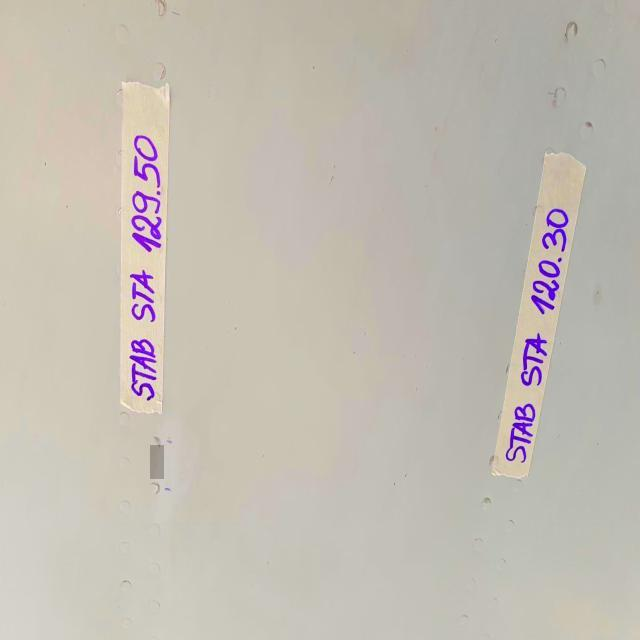crack: (152, 446, 166, 480)
